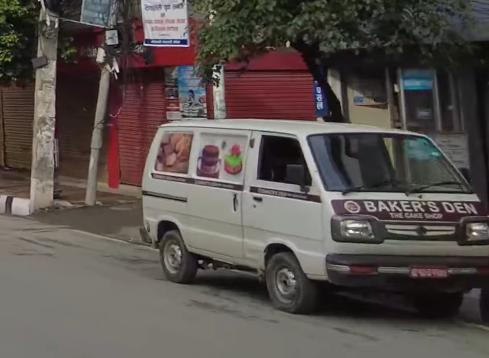van: (140, 109, 489, 327)
